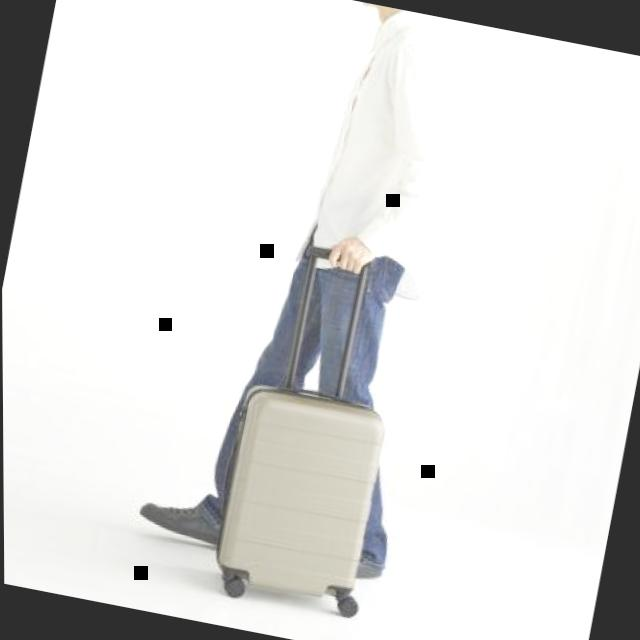luggage: (205, 368, 400, 612)
